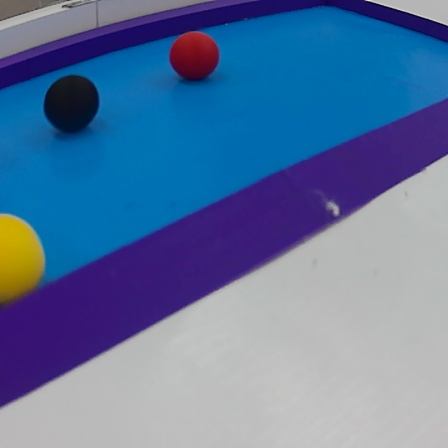black: (37, 75, 105, 138)
blue_aim: (1, 5, 448, 412)
red: (171, 29, 222, 86)
yellow: (0, 209, 47, 311)
